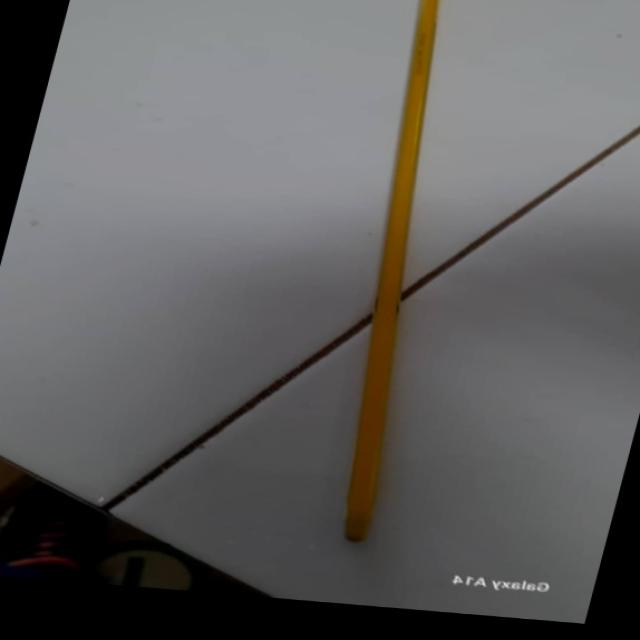Thermometer: (254, 0, 529, 547)
